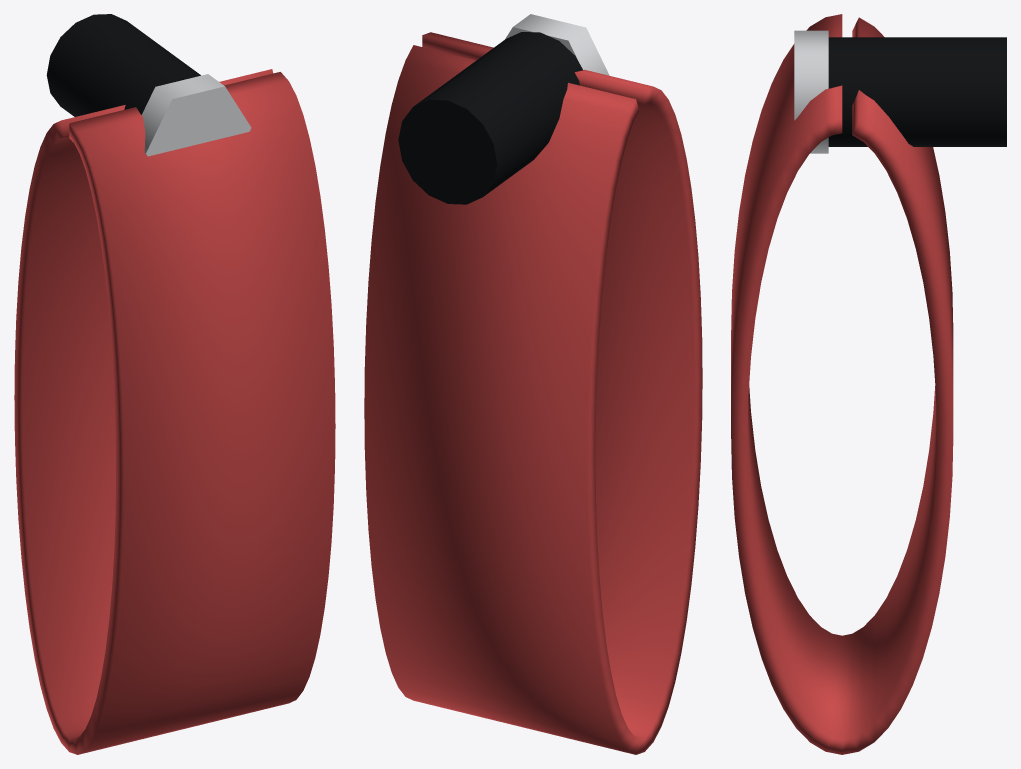
The model's file is DT51_front_tow_strap.glb.
The picture shows the model from 3 angles, left to right: view 1: azimuth 30°, elevation 25°; view 2: azimuth 150°, elevation 25°; view 3: azimuth 270°, elevation 25°; orthographic projection. The views are drawn at different scales.
Parts seen in each view (by area): view 1: MOD_NA_DT51_webbing, MOD_NA_DT51_bracket, MOD_NA_DT51_bolt; view 2: MOD_NA_DT51_webbing, MOD_NA_DT51_bracket, MOD_NA_DT51_bolt; view 3: MOD_NA_DT51_webbing, MOD_NA_DT51_bracket, MOD_NA_DT51_bolt.
Part boxes in pixels (x1,y1,x2,y2): MOD_NA_DT51_webbing: (14,69,335,754); MOD_NA_DT51_bracket: (46,14,200,116); MOD_NA_DT51_bolt: (142,74,251,156); MOD_NA_DT51_webbing: (364,32,702,754); MOD_NA_DT51_bracket: (398,32,582,204); MOD_NA_DT51_bolt: (505,14,609,75); MOD_NA_DT51_webbing: (731,14,953,754); MOD_NA_DT51_bracket: (828,37,1006,146); MOD_NA_DT51_bolt: (794,30,828,153).
Size of the model in its own units: 0.036 by 0.1062 by 0.0402.
